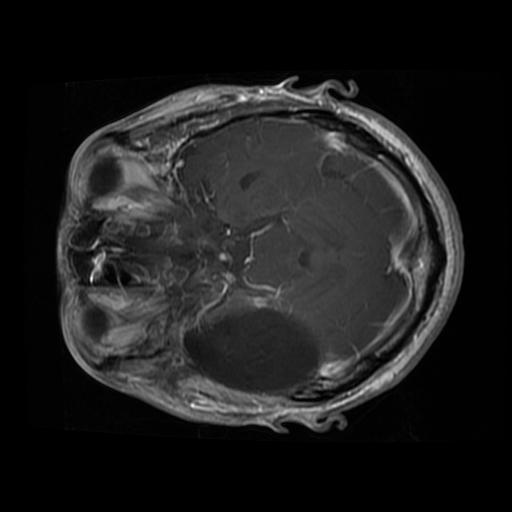glioma: (183, 308, 319, 399)
